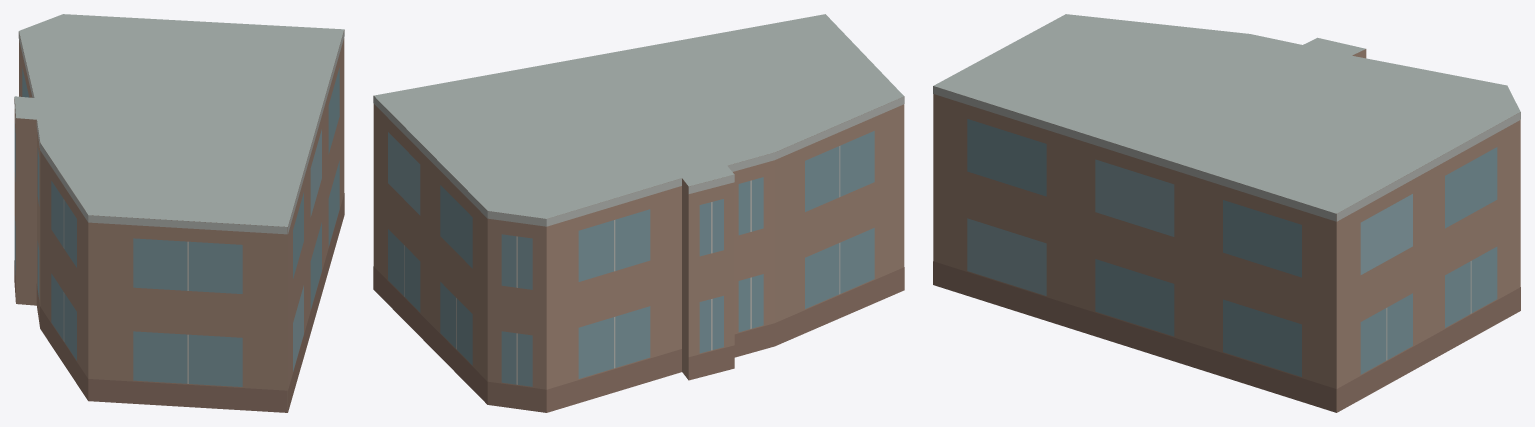
File: survey-upis-32570079.glb
3 views of the same model, side by side, from view 1: azimuth 30°, elevation 25°; view 2: azimuth 150°, elevation 25°; view 3: azimuth 270°, elevation 25° (orthographic). The views are drawn at different scales.
Parts seen in each view (by area): view 1: survey-upis-32570079.tmp; view 2: survey-upis-32570079.tmp; view 3: survey-upis-32570079.tmp.
Part boxes in pixels (left/top/right/bottom): survey-upis-32570079.tmp: left=14, top=14, right=344, bottom=412; survey-upis-32570079.tmp: left=373, top=14, right=904, bottom=412; survey-upis-32570079.tmp: left=933, top=14, right=1520, bottom=412.
Size of the model in its own units: 13.14 by 6.1 by 16.33.
